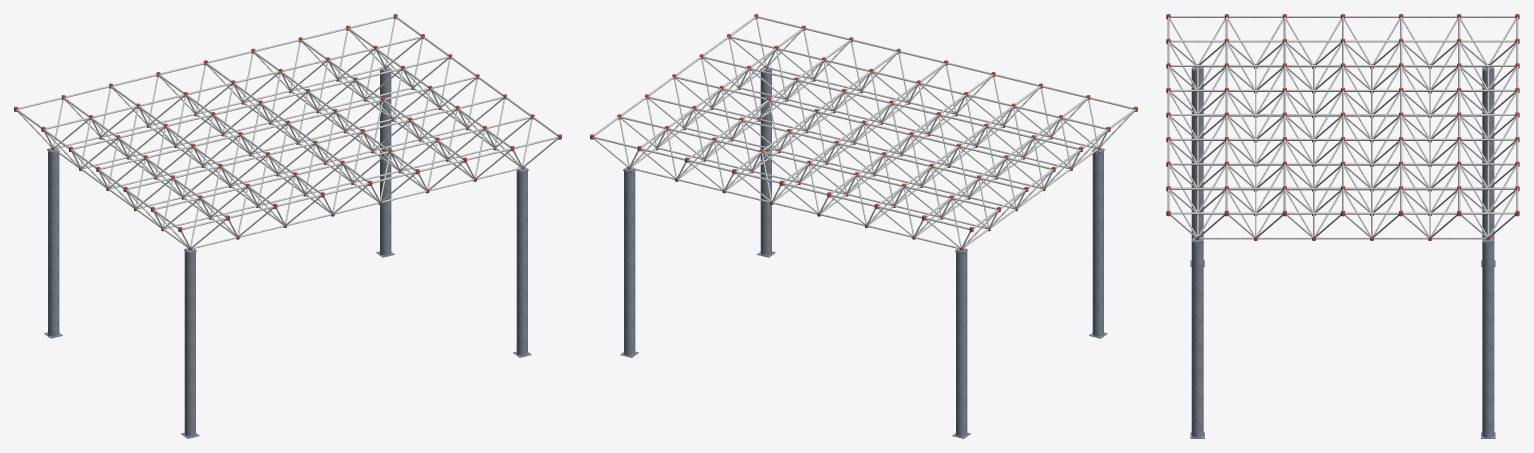
File: space-frame-roofs.glb
The picture shows the model from 3 angles, left to right: view 1: azimuth 30°, elevation 25°; view 2: azimuth 150°, elevation 25°; view 3: azimuth 270°, elevation 25°; orthographic projection. The views are drawn at different scales.
Visible parts, largest first — view 1: Diagonals, TopChords, Columns(context), BottomChords, Nodes; view 2: Diagonals, TopChords, Columns(context), BottomChords, Nodes; view 3: Diagonals, TopChords, Columns(context), BottomChords, Nodes.
Part boxes in pixels (x1=…): Diagonals: x1=17, y1=18, x2=557, y2=248; TopChords: x1=16, y1=16, x2=558, y2=229; Columns(context): x1=44, y1=66, x2=531, y2=438; BottomChords: x1=53, y1=67, x2=521, y2=249; Nodes: x1=14, y1=14, x2=561, y2=250; Diagonals: x1=594, y1=18, x2=1134, y2=248; TopChords: x1=593, y1=16, x2=1135, y2=229; Columns(context): x1=620, y1=66, x2=1107, y2=438; BottomChords: x1=630, y1=67, x2=1098, y2=249; Nodes: x1=590, y1=14, x2=1137, y2=250; Diagonals: x1=1169, y1=18, x2=1516, y2=238; TopChords: x1=1167, y1=16, x2=1518, y2=214; Columns(context): x1=1190, y1=67, x2=1495, y2=438; BottomChords: x1=1196, y1=67, x2=1489, y2=239; Nodes: x1=1166, y1=14, x2=1519, y2=240.
Size of the model in its own units: 19.38 by 10.79 by 14.58.
Materials: 3 (3 with a texture image).
